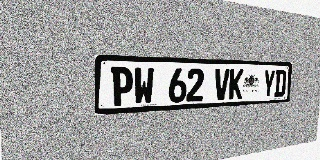2: (186, 68, 204, 102)
6: (168, 68, 187, 103)
D: (274, 70, 287, 97)
K: (228, 69, 244, 100)
P: (111, 67, 133, 106)
V: (214, 69, 230, 100)
W: (133, 67, 154, 105)
Y: (262, 70, 275, 98)
